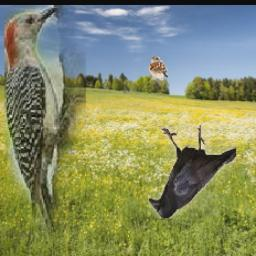Crow: (148, 125, 236, 218)
Sparrow: (148, 57, 168, 81)
Woodpecker: (4, 6, 86, 243)
